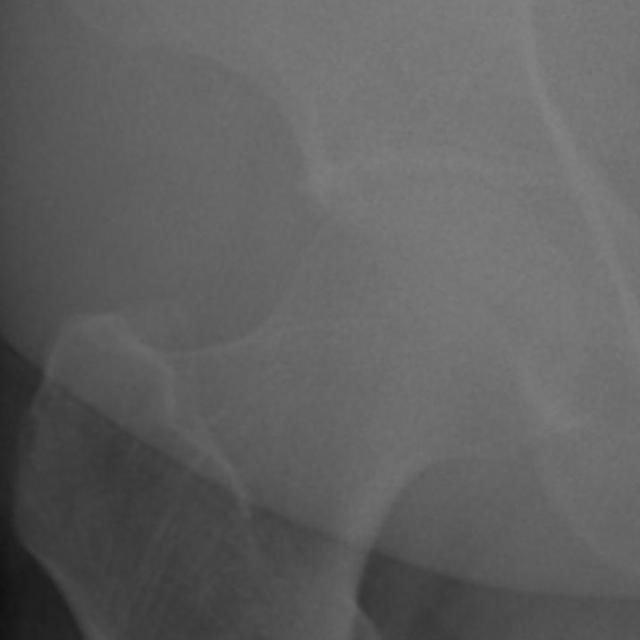Fitted_femural_head: (275, 183, 432, 275)
